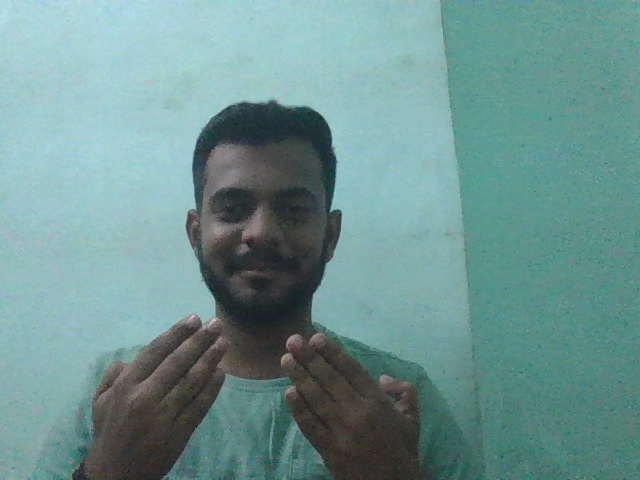thankyou: (75, 315, 432, 469)
